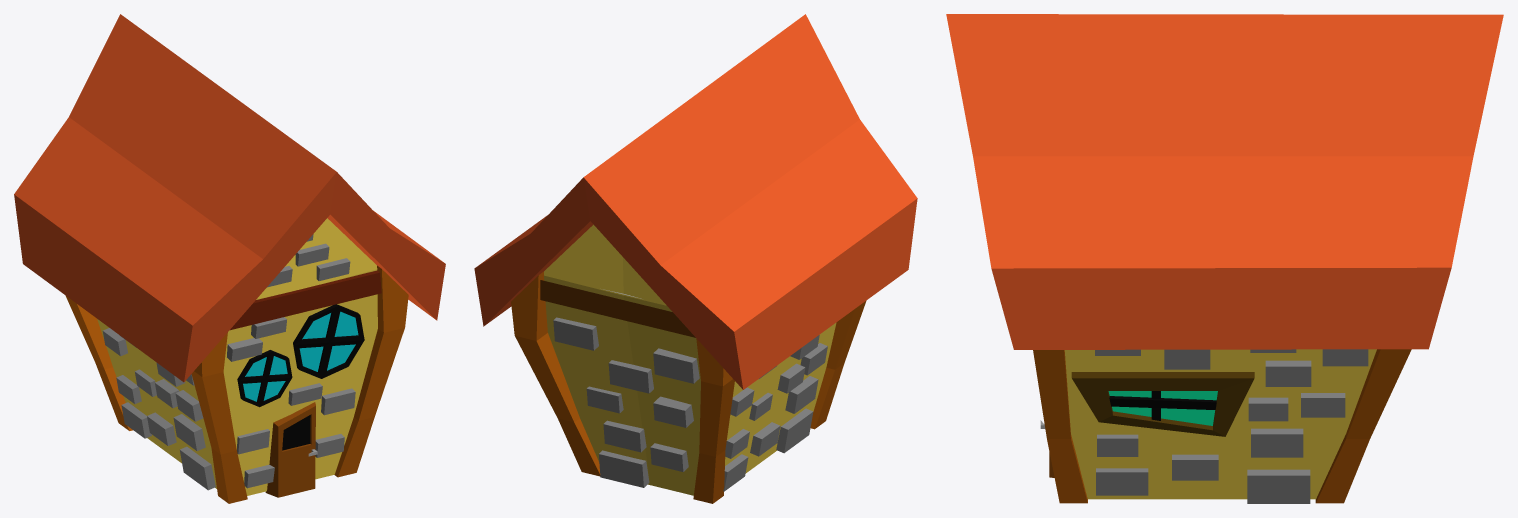
File: SaleAmarelo.fbx
3 views of the same model, side by side, from view 1: azimuth 30°, elevation 25°; view 2: azimuth 150°, elevation 25°; view 3: azimuth 270°, elevation 25° (orthographic). The views are drawn at different scales.
Parts seen in each view (by area): view 1: SaleAmarelo; view 2: SaleAmarelo; view 3: SaleAmarelo.
Boxes of the visible parts, x1,y1,x2,y2 form: SaleAmarelo: (14,14,445,503); SaleAmarelo: (474,14,917,503); SaleAmarelo: (946,14,1503,503).
Size of the model in its own units: 687 by 909 by 1017.
